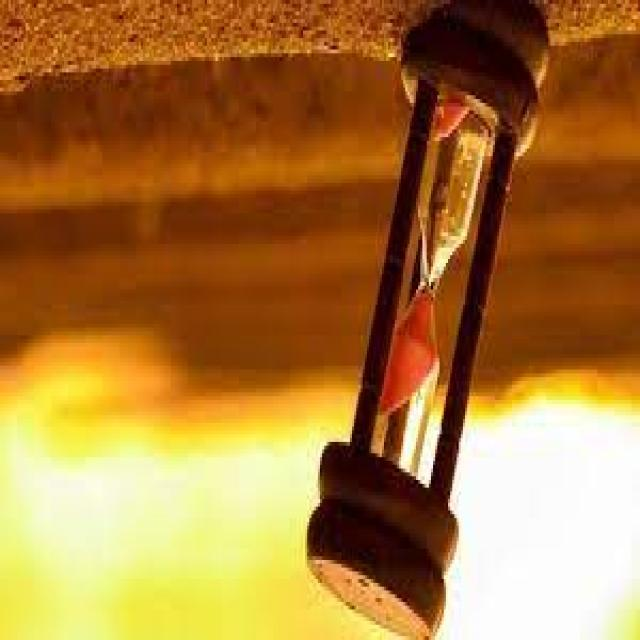clock: (292, 20, 566, 628)
